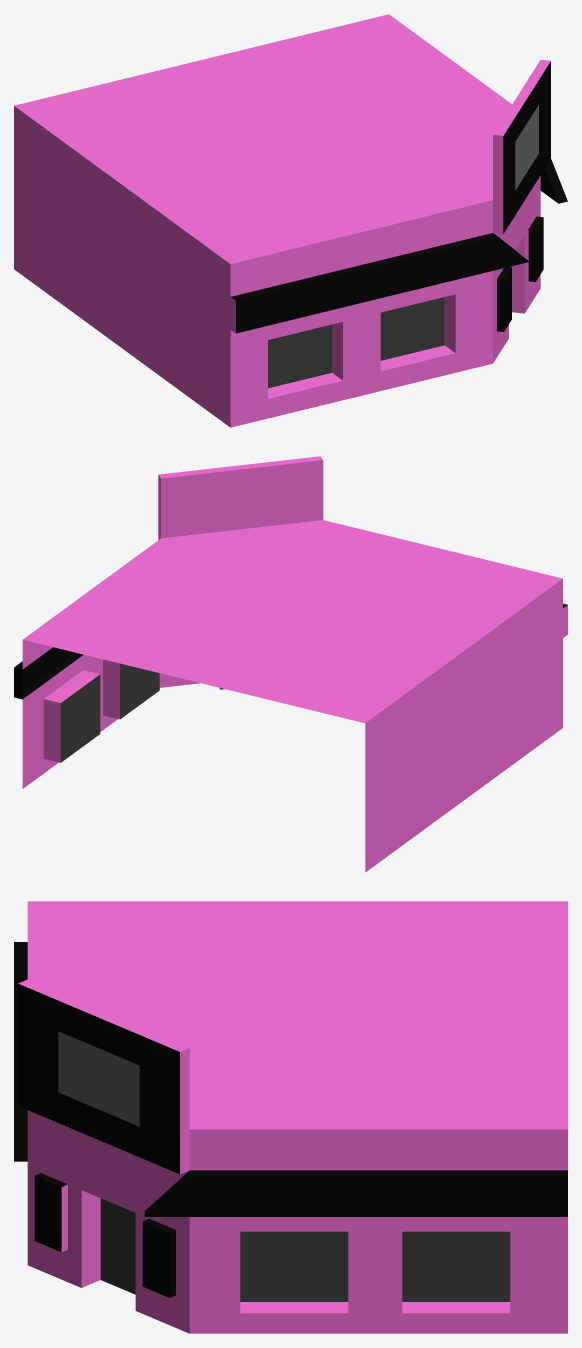
File: Edificio-4.fbx
3 views of the same model, one above another, from view 1: azimuth 30°, elevation 25°; view 2: azimuth 150°, elevation 25°; view 3: azimuth 270°, elevation 25° (orthographic). The views are drawn at different scales.
Parts seen in each view (by area): view 1: Plane; view 2: Plane; view 3: Plane.
Boxes of the visible parts, x1,y1,x2,y2 form: Plane: [14, 14, 567, 427]; Plane: [14, 456, 567, 872]; Plane: [14, 901, 567, 1333].
Bounding box in the file's own units: 1230 × 700 × 1230.
